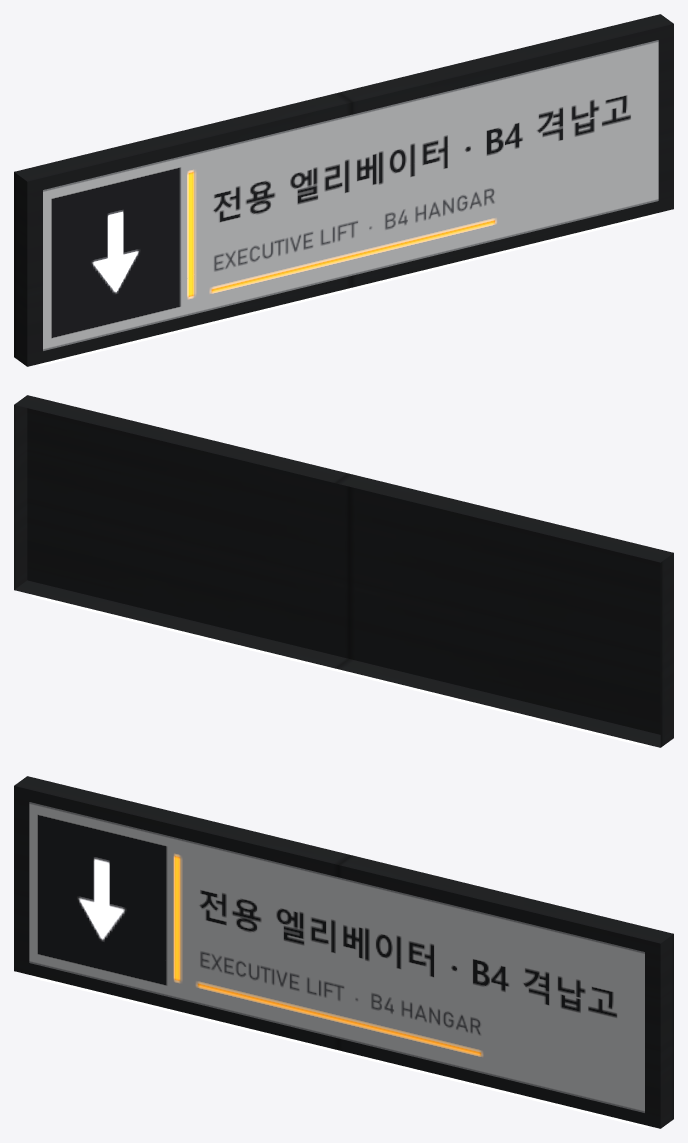
File: SM_LFD_SignWayfinding_Lift.fbx
The picture shows the model from 3 angles, top to bottom: view 1: azimuth 30°, elevation 25°; view 2: azimuth 150°, elevation 25°; view 3: azimuth 330°, elevation 25°; orthographic projection.
Visible parts, largest first — view 1: SM_LFD_SignWayfinding_Lift; view 2: SM_LFD_SignWayfinding_Lift; view 3: SM_LFD_SignWayfinding_Lift.
Part boxes in pixels (x1,y1,x2,y2): SM_LFD_SignWayfinding_Lift: (14, 14, 673, 366); SM_LFD_SignWayfinding_Lift: (14, 395, 673, 747); SM_LFD_SignWayfinding_Lift: (14, 776, 673, 1128).
Bounding box in the file's own units: 1.68 × 0.472 × 0.061.
